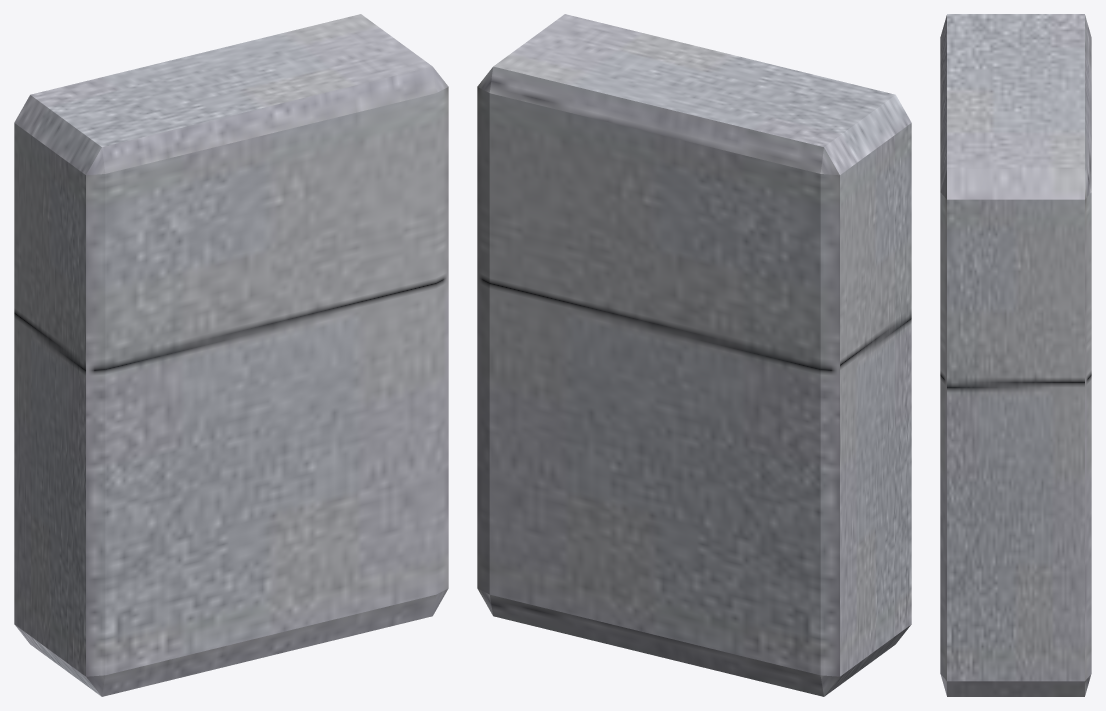
Rendered from lighter_unopened.fbx.
3 renders of one model, left to right at view 1: azimuth 30°, elevation 25°; view 2: azimuth 150°, elevation 25°; view 3: azimuth 270°, elevation 25°, orthographic. The views are drawn at different scales.
Visible parts, largest first — view 1: zippo_unopened; view 2: zippo_unopened; view 3: zippo_unopened.
Boxes of the visible parts, x1,y1,x2,y2 form: zippo_unopened: (14,14,448,696); zippo_unopened: (477,14,911,696); zippo_unopened: (940,14,1091,696).
Size of the model in its own units: 19.82 by 28.7 by 7.44.
